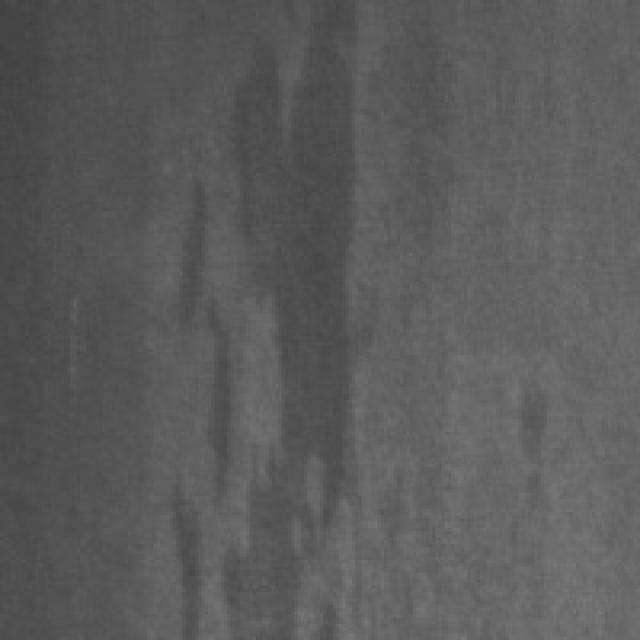inclusion: (166, 29, 365, 630), (499, 374, 557, 500)
